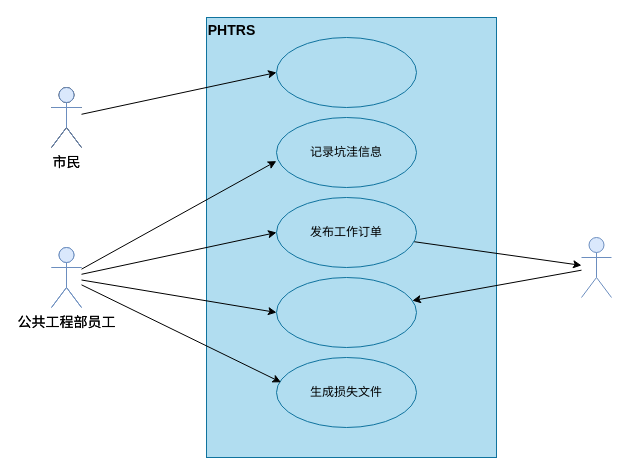
Image size: 641x475. Some labels were removed from this diagram. The shapes that lost their labels are listed below. From the top down, each one's centre as x and y in pixels, then its label:
At pixel 346 72: "上报坑洼信息".
At pixel 596 267: "维修人员".
At pixel 346 312: "修复坑洼".
